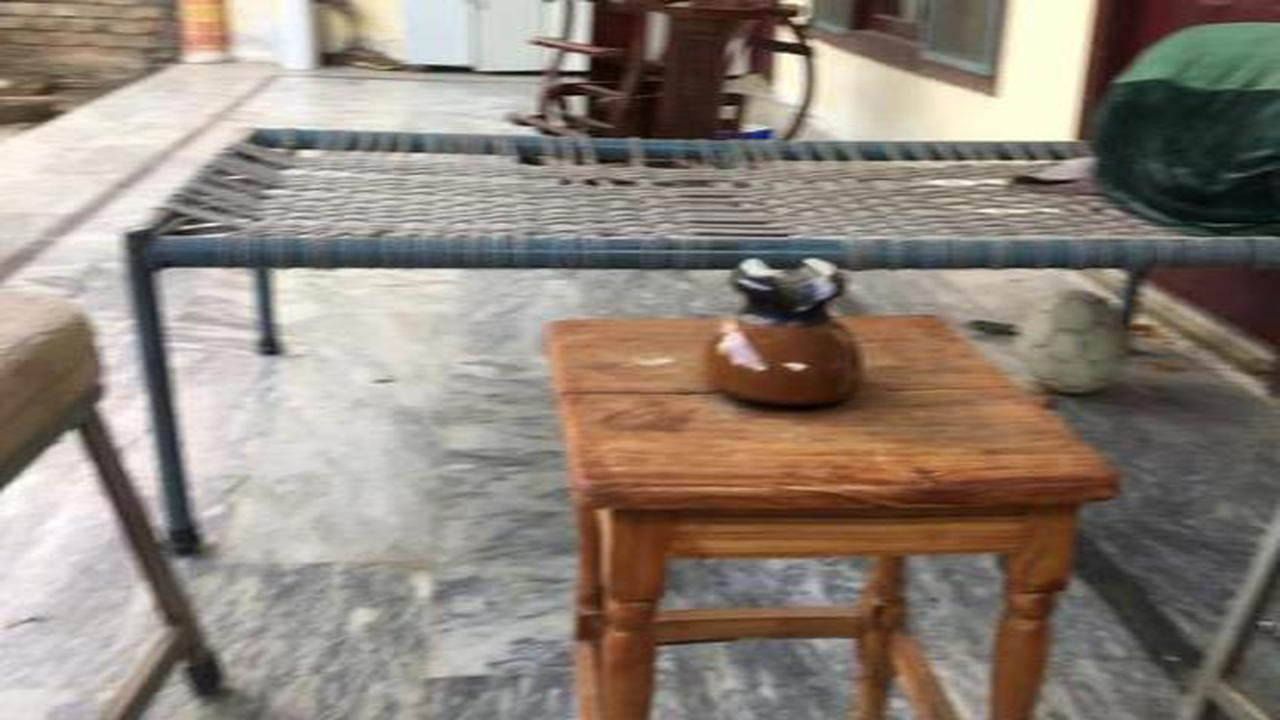insulator_pin: (684, 241, 890, 423)
